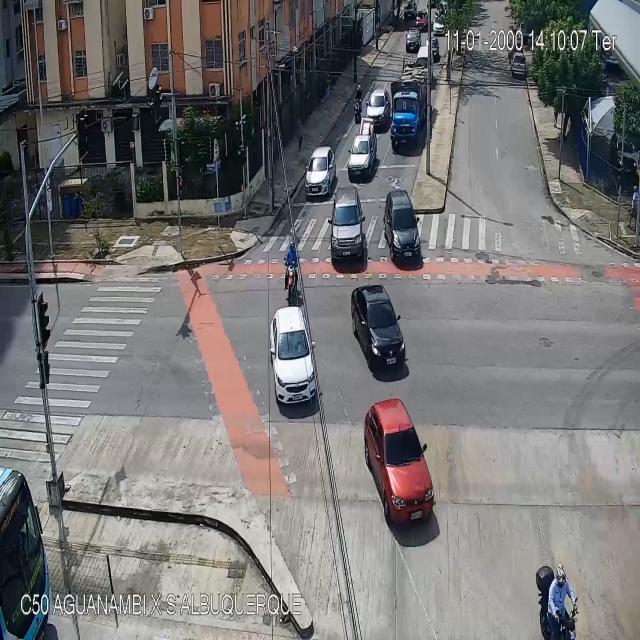Bus: (0, 443, 73, 639)
Car: (362, 399, 438, 523), (352, 285, 407, 372), (271, 308, 317, 407), (383, 187, 421, 259), (328, 187, 366, 259), (304, 146, 337, 196), (348, 137, 376, 182), (367, 91, 389, 130), (427, 36, 440, 62), (407, 29, 419, 54), (403, 0, 417, 20), (512, 53, 525, 74), (432, 15, 446, 34), (416, 11, 429, 31)
Motorcycle: (537, 560, 578, 640), (285, 238, 302, 304), (354, 82, 363, 126)
Truck: (390, 69, 428, 148)
